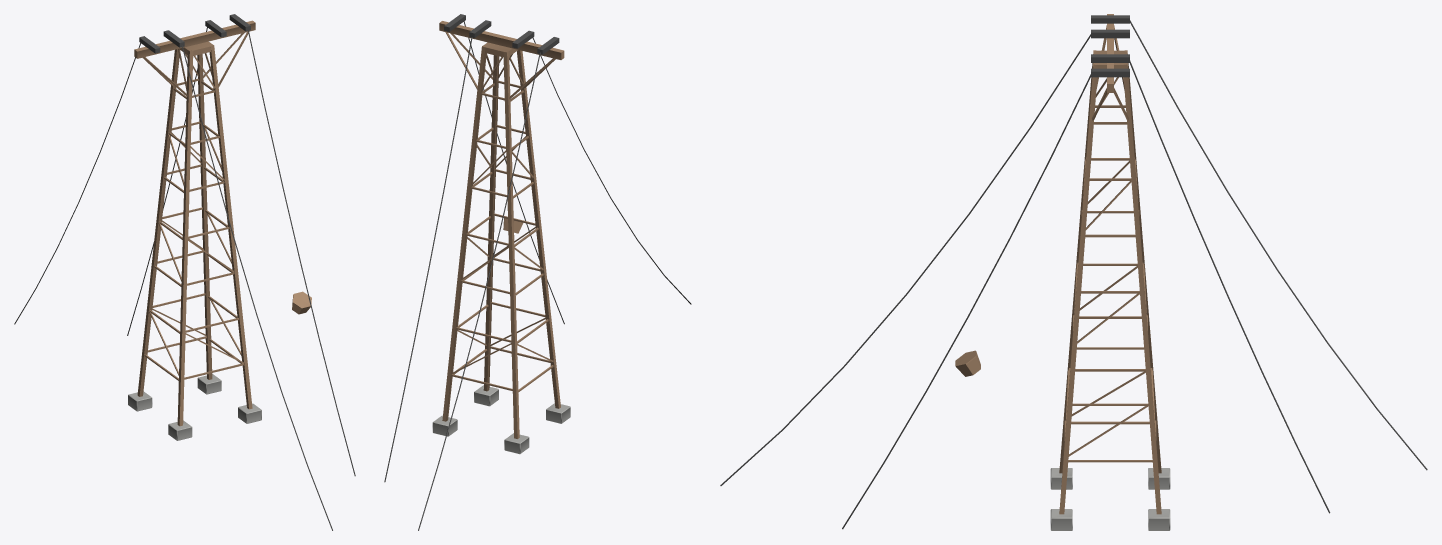
Rendered from ropeway_pylon_lod1.glb.
3 views of the same model, side by side, from view 1: azimuth 30°, elevation 25°; view 2: azimuth 150°, elevation 25°; view 3: azimuth 270°, elevation 25° (orthographic). The views are drawn at different scales.
Visible parts, largest first — view 1: static; view 2: static; view 3: static.
Boxes of the visible parts, x1=… form: static: x1=14, y1=14, x2=355, y2=530; static: x1=384, y1=14, x2=691, y2=530; static: x1=720, y1=14, x2=1427, y2=530.
Size of the model in its own units: 6.8 by 20.97 by 29.05.
